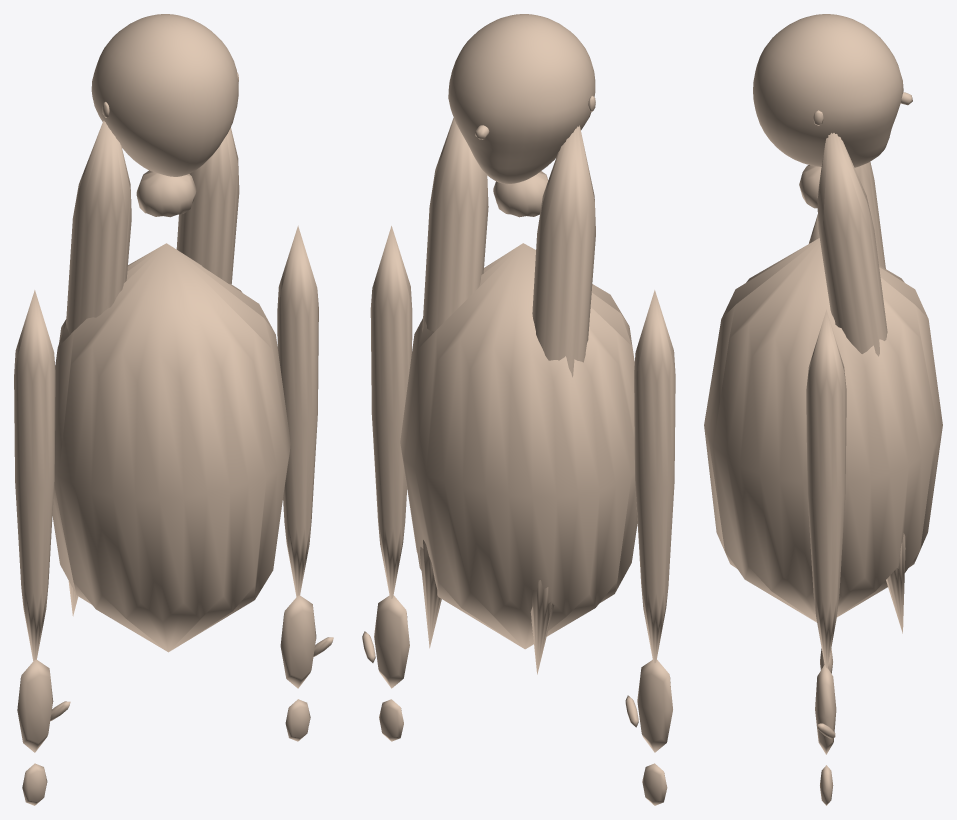
Rendered from raider_scout.glb.
3 renders of one model, left to right at view 1: azimuth 30°, elevation 25°; view 2: azimuth 150°, elevation 25°; view 3: azimuth 270°, elevation 25°, orthographic. The views are drawn at different scales.
Parts seen in each view (by area): view 1: raider_scout; view 2: raider_scout; view 3: raider_scout.
Boxes of the visible parts, x1,y1,x2,y2 form: raider_scout: (14,14,333,805); raider_scout: (362,14,675,805); raider_scout: (704,14,942,805).
Size of the model in its own units: 0.4781 by 1.1 by 0.3293.
